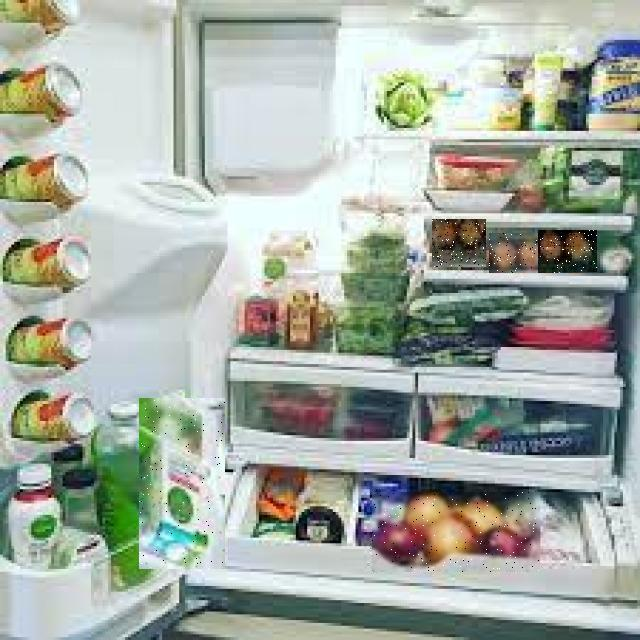Eggs: (433, 219, 487, 267), (538, 230, 597, 273), (489, 233, 538, 273)
Milk: (139, 398, 225, 569)
Onion: (373, 492, 541, 572)
